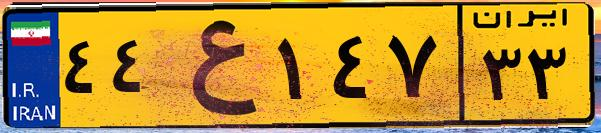1: (270, 28, 330, 110)
3: (475, 38, 525, 113), (525, 38, 570, 115)
4: (330, 28, 385, 110), (57, 26, 110, 100), (110, 28, 158, 98)
7: (385, 28, 445, 110)
ع: (158, 12, 270, 120)
